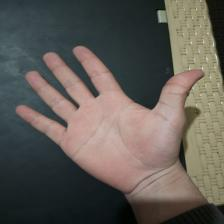five: (16, 46, 209, 175)
